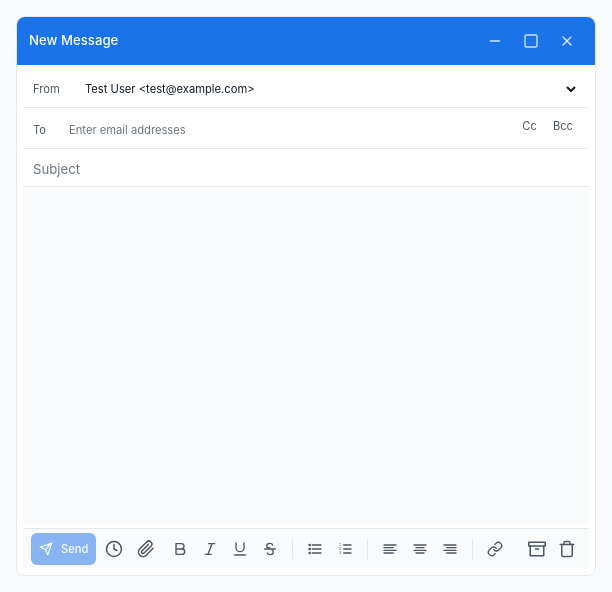
ComposeWindow - schedule picker cancel (line 549) › closes schedule picker when Cancel is clicked inside it
Expected: the field with placeholder "Subject" is shown, [33, 160, 579, 180]
Add a recipient to enable schedule
Step 1. Type "test@example.com" into the field with placeholder "Enter email addresses" → (324, 130), box [69, 120, 579, 140]
Then press Enter
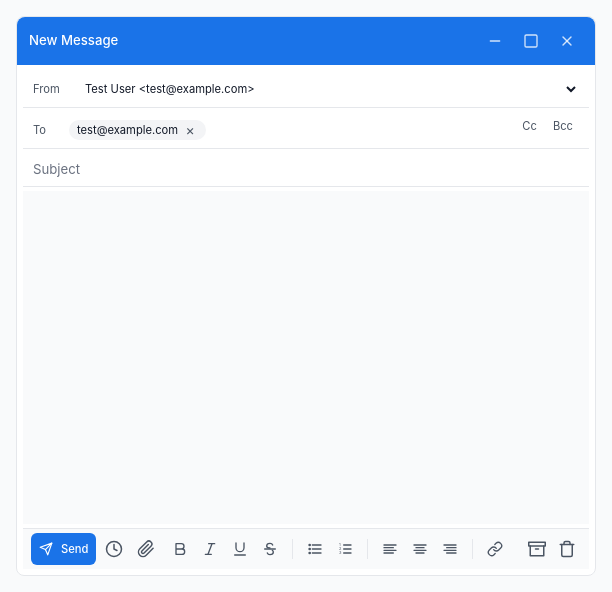
Open the schedule picker
Step 2. Click the button titled "Schedule send" → (114, 549), box [100, 535, 128, 563]
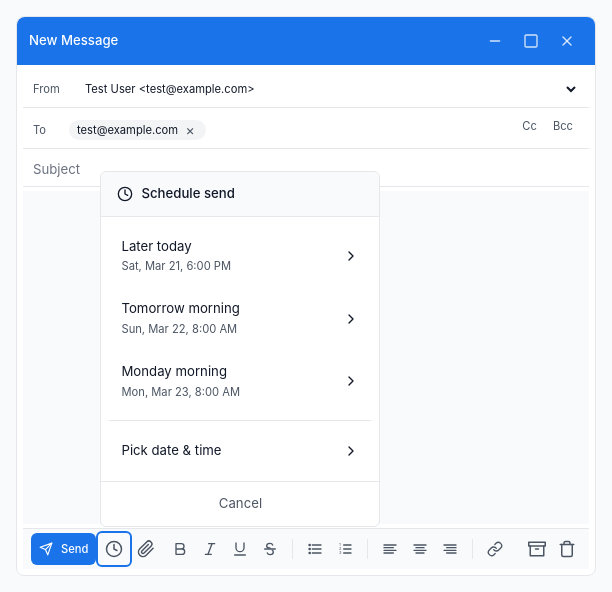
Expected: the text "Later today" is shown, [122, 238, 192, 254]
Click the Cancel link inside the picker
Step 3. Click the button "Cancel" → (240, 504), box [102, 481, 380, 526]
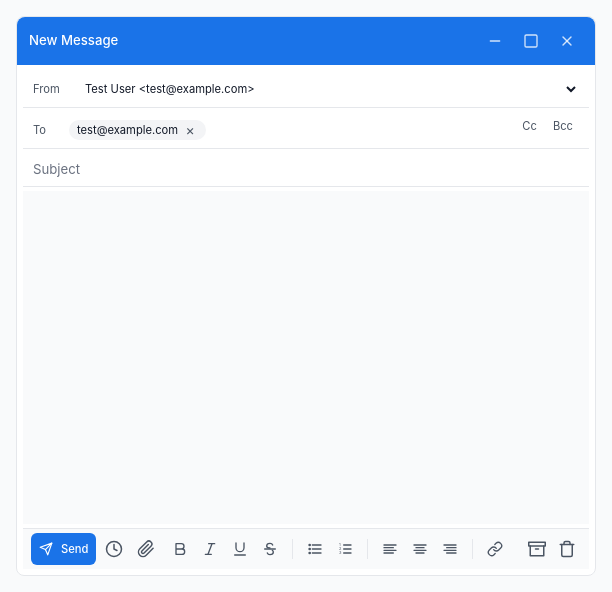
Expected: the button "Later today" is gone
